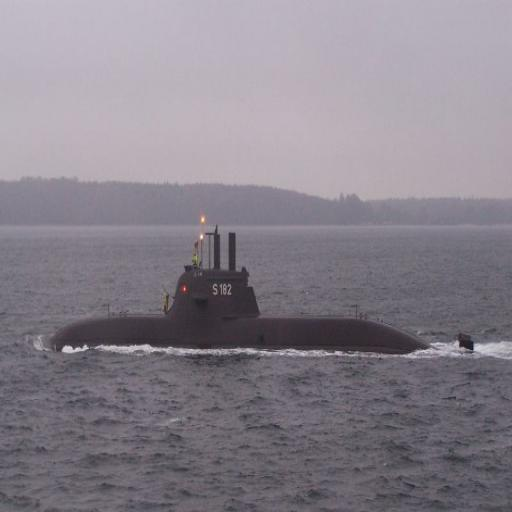submarine: (47, 218, 481, 355)
